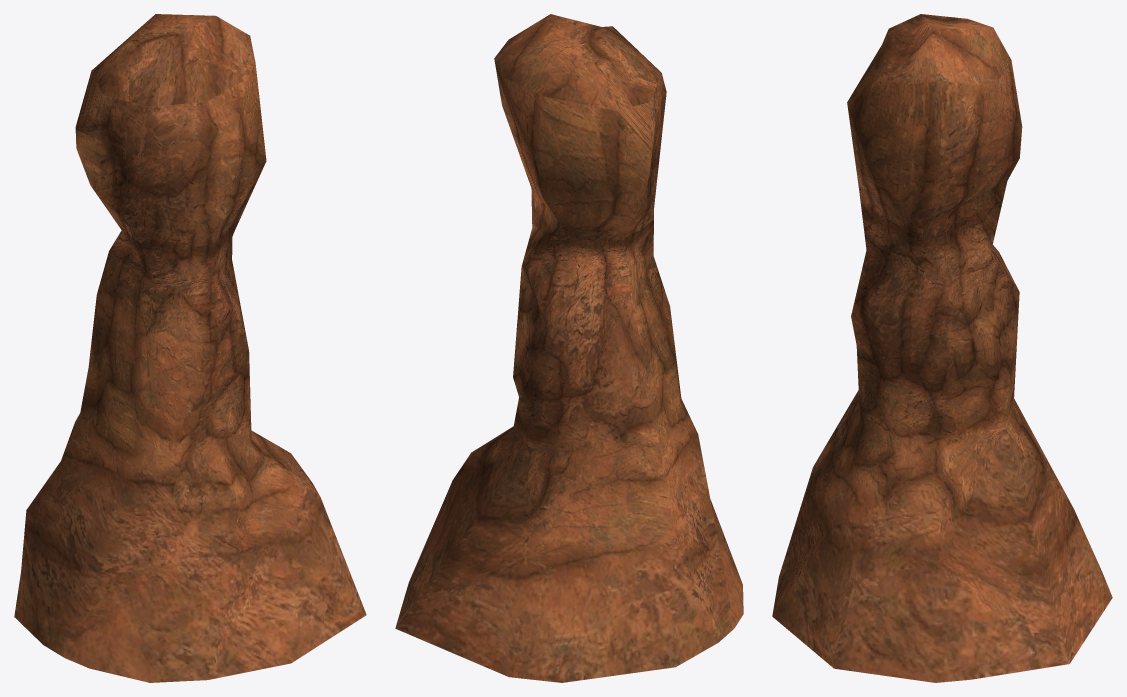
The model's file is poi_tato_sacred_pinnacle_l2.fbx.
3 views of the same model, side by side, from view 1: azimuth 30°, elevation 25°; view 2: azimuth 150°, elevation 25°; view 3: azimuth 270°, elevation 25° (orthographic).
Parts seen in each view (by area): view 1: mesh_node; view 2: mesh_node; view 3: mesh_node.
Boxes of the visible parts, x1,y1,x2,y2 form: mesh_node: [14, 14, 366, 682]; mesh_node: [395, 14, 743, 682]; mesh_node: [772, 14, 1112, 682].
Size of the model in its own units: 104 by 196 by 102.
